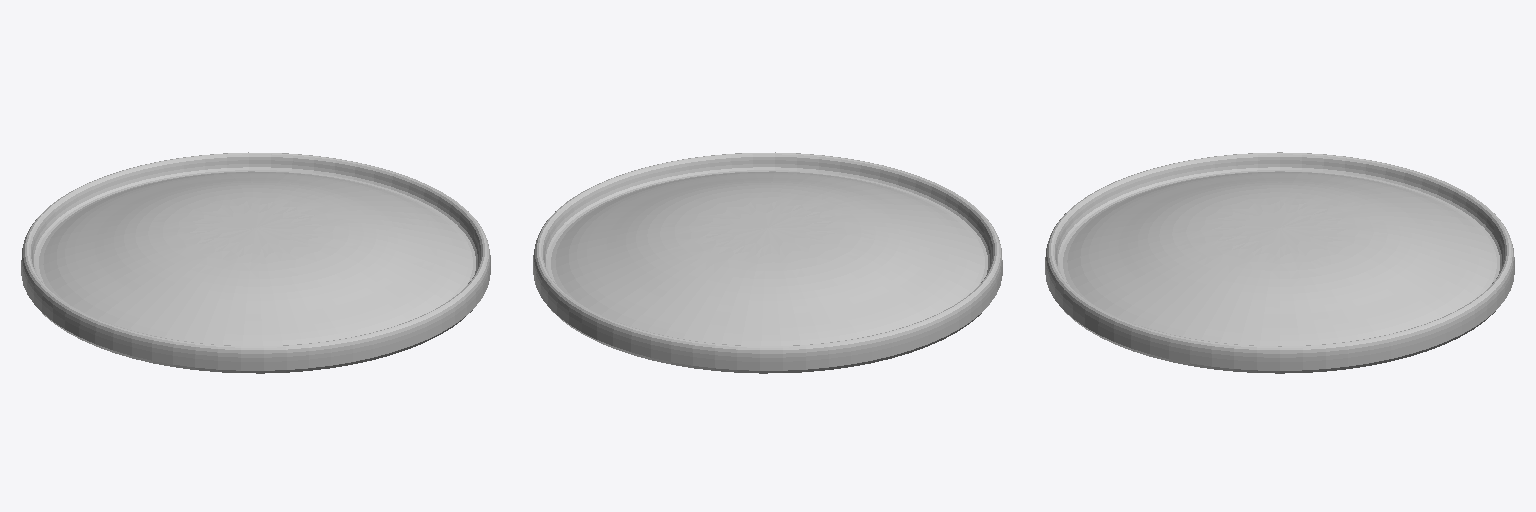
File: ceiling-light.obj
3 renders of one model, left to right at view 1: azimuth 30°, elevation 25°; view 2: azimuth 150°, elevation 25°; view 3: azimuth 270°, elevation 25°, orthographic.
Visible parts, largest first — view 1: Cylinder_Cylinder.001; view 2: Cylinder_Cylinder.001; view 3: Cylinder_Cylinder.001.
Boxes of the visible parts, x1=… form: Cylinder_Cylinder.001: x1=21, y1=152, x2=490, y2=373; Cylinder_Cylinder.001: x1=533, y1=152, x2=1002, y2=373; Cylinder_Cylinder.001: x1=1045, y1=152, x2=1514, y2=373.
Size of the model in its own units: 4.19 by 0.5546 by 4.19.